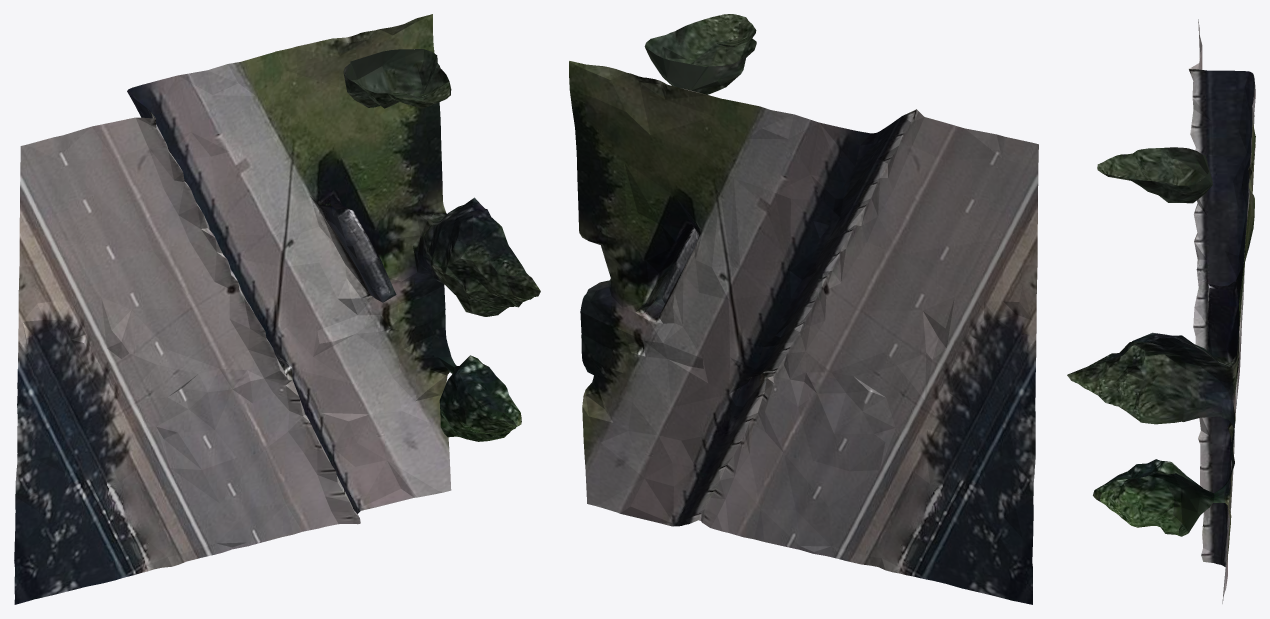
The model's file is Tile_+032_+021_L20_0003230.obj.
3 views of the same model, side by side, from view 1: azimuth 30°, elevation 25°; view 2: azimuth 150°, elevation 25°; view 3: azimuth 270°, elevation 25° (orthographic). The views are drawn at different scales.
Size of the model in its own units: 31.5 by 31.38 by 13.34.
Materials: 1 (1 with a texture image).
